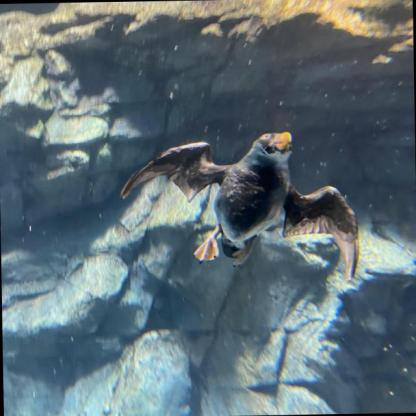puffin: (119, 118, 370, 287)
